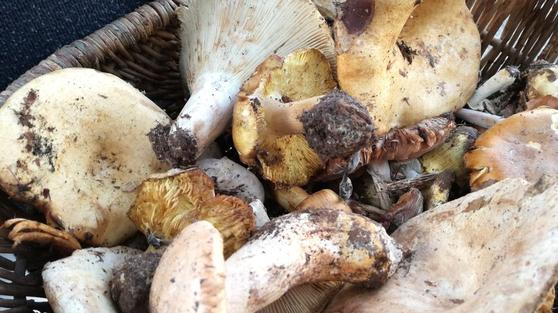champignon: (145, 220, 342, 313)
